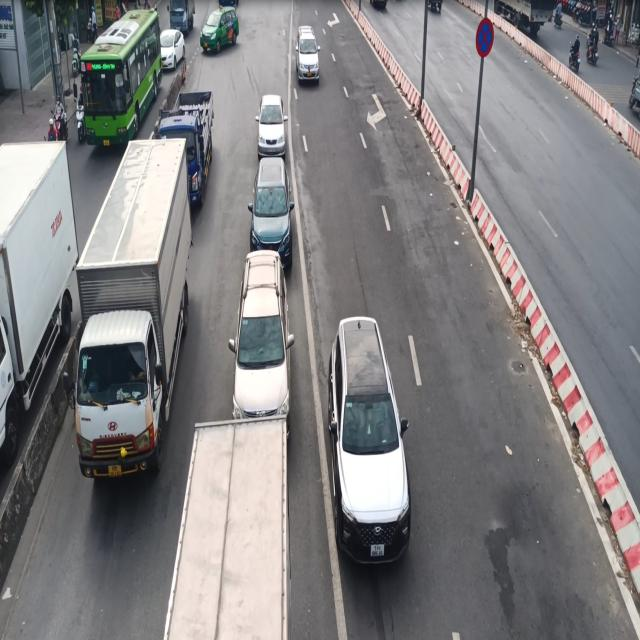bus: (80, 9, 169, 141)
car: (326, 306, 409, 573), (233, 246, 289, 430), (247, 160, 295, 257), (292, 15, 326, 97), (256, 89, 288, 162)
truck: (75, 135, 188, 478)
